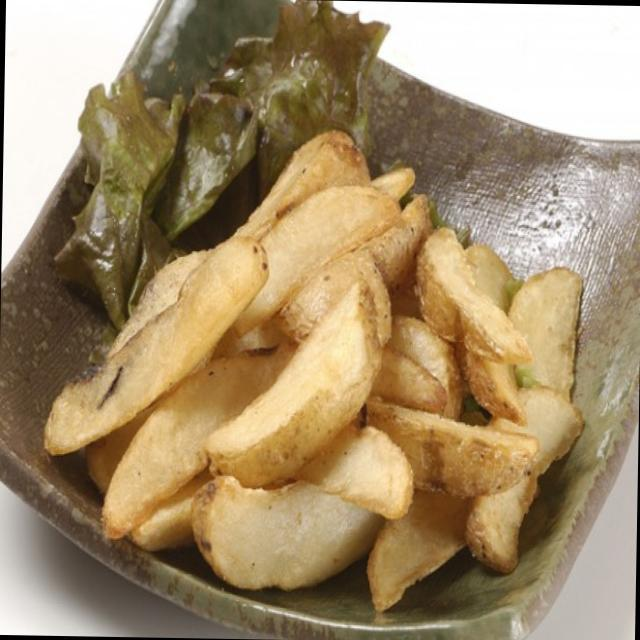French Fries: (124, 162, 562, 578)
